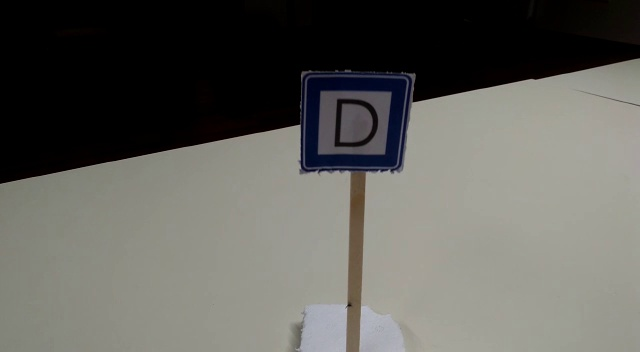durak: (299, 71, 412, 173)
